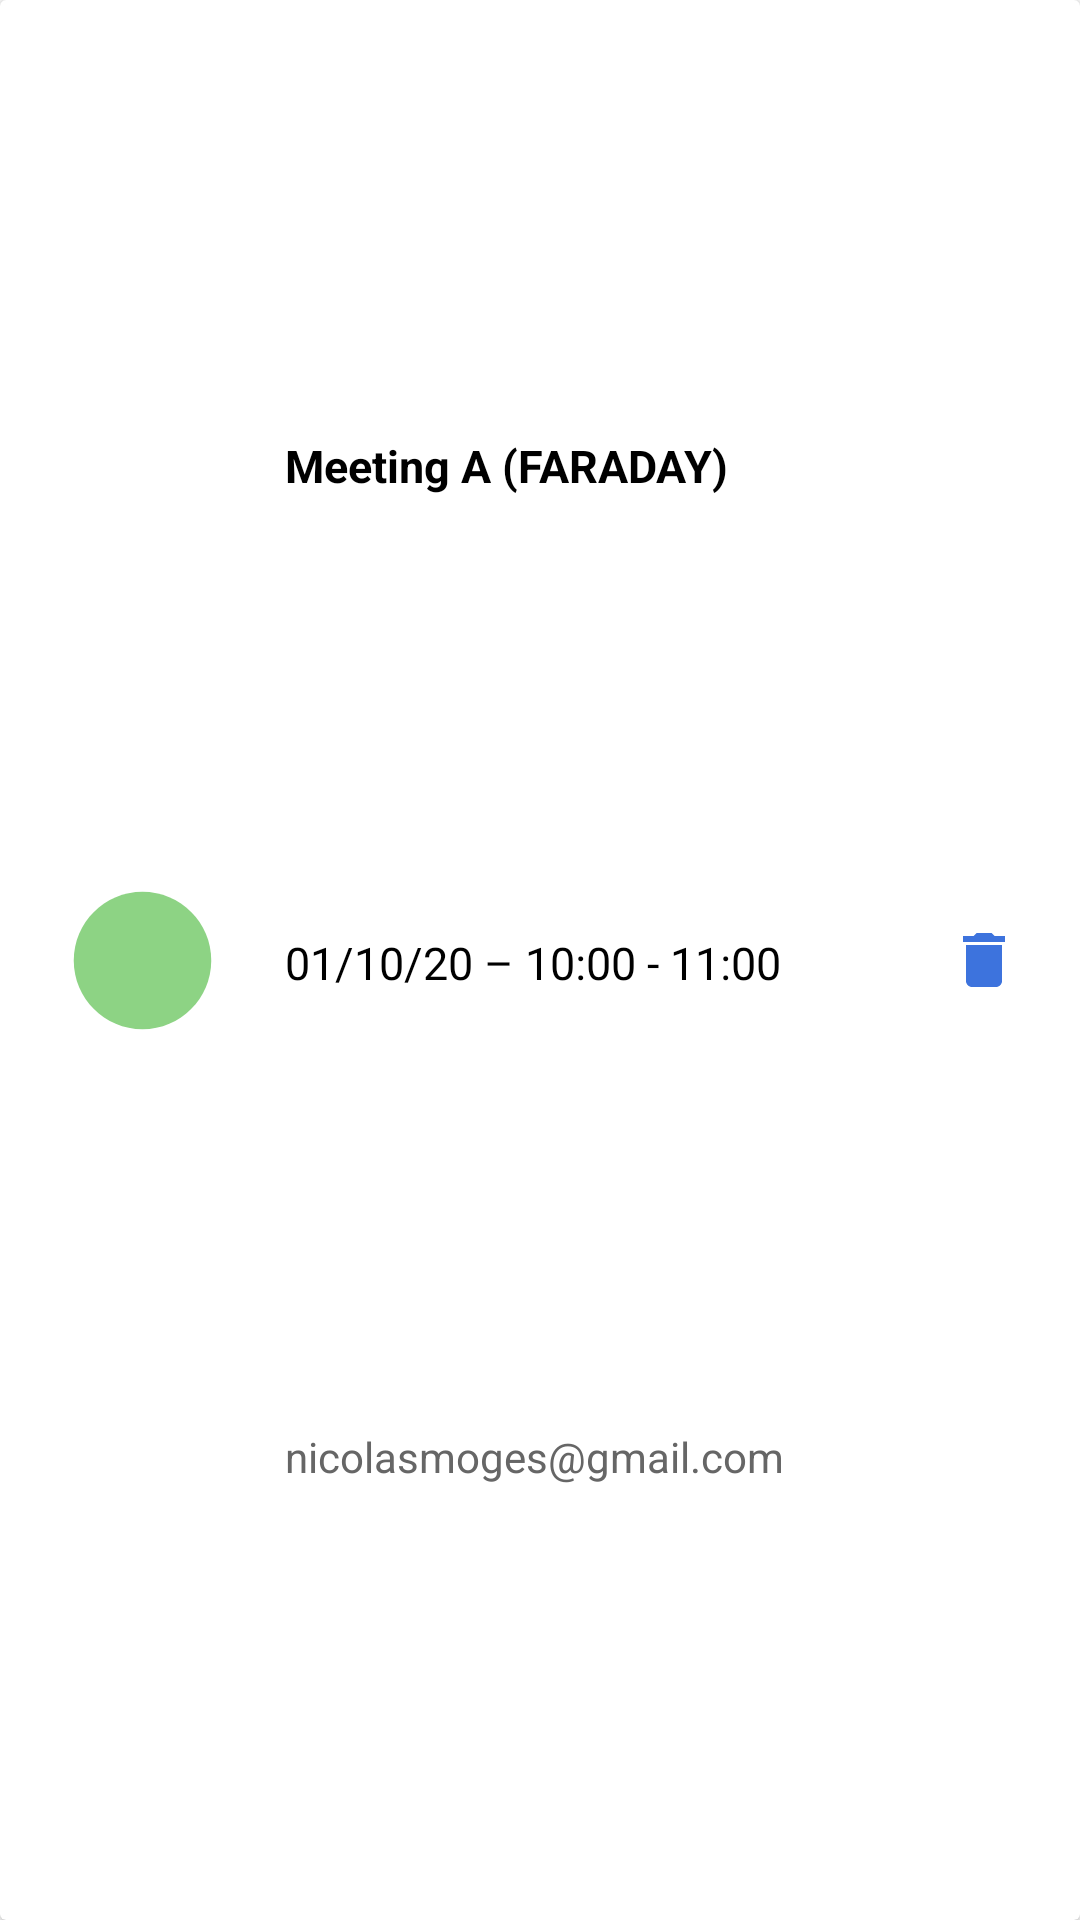

Icon click points for this 1080px×1920px phone screenshot, format point (x, y):
delete: point (984, 960)
